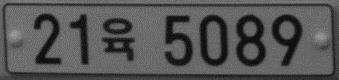0: (198, 13, 229, 66)
1: (65, 11, 93, 67)
2: (32, 11, 62, 66)
5: (162, 13, 193, 66)
8: (234, 12, 267, 66)
9: (271, 12, 304, 67)
육: (100, 16, 137, 63)
